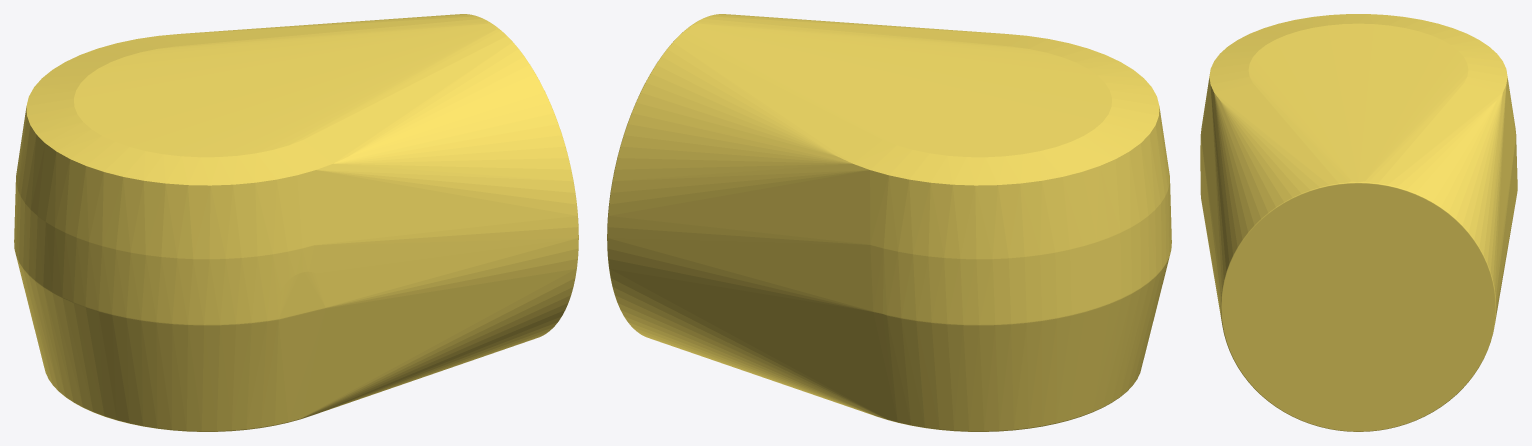
3 renders of one model, left to right at view 1: azimuth 30°, elevation 25°; view 2: azimuth 150°, elevation 25°; view 3: azimuth 270°, elevation 25°, orthographic. The views are drawn at different scales.
Parts seen in each view (by area): view 1: link_5.stl; view 2: link_5.stl; view 3: link_5.stl.
Part boxes in pixels (x1=…): link_5.stl: x1=14, y1=14, x2=578, y2=431; link_5.stl: x1=607, y1=14, x2=1171, y2=431; link_5.stl: x1=1200, y1=14, x2=1517, y2=431.
Size of the model in its own units: 0.1167 by 0.0739 by 0.0852.
